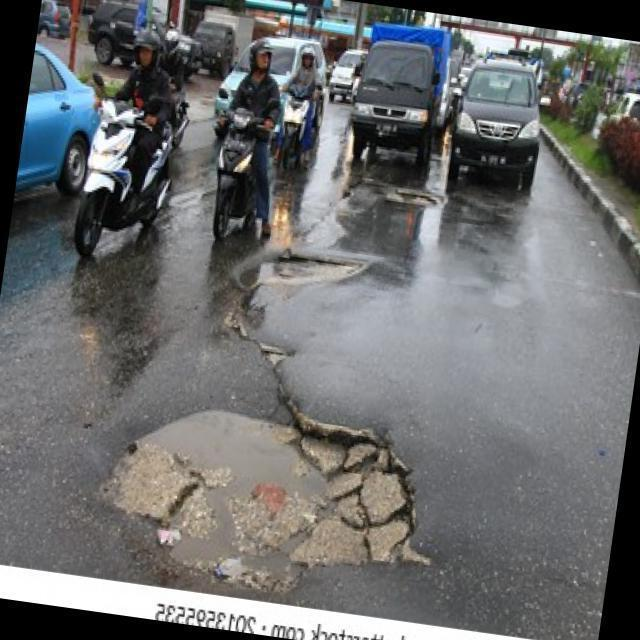pothole: (86, 384, 442, 611), (234, 237, 372, 307), (386, 186, 439, 209)
